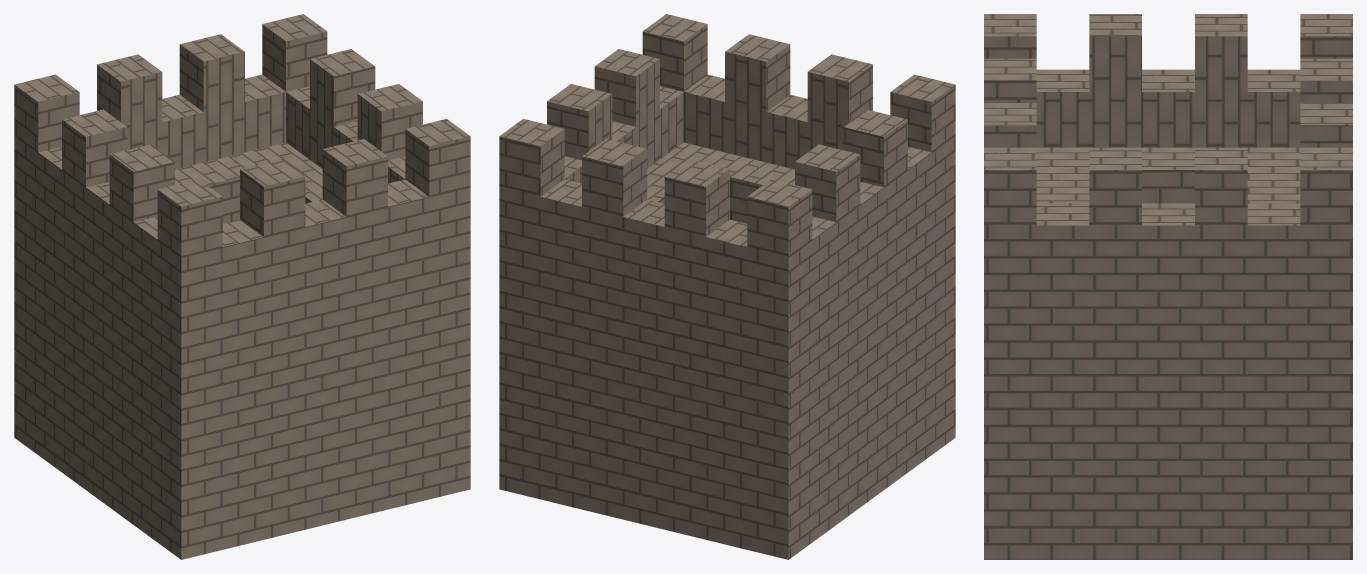
File: walltower.glb
3 views of the same model, side by side, from view 1: azimuth 30°, elevation 25°; view 2: azimuth 150°, elevation 25°; view 3: azimuth 270°, elevation 25° (orthographic). The views are drawn at different scales.
Visible parts, largest first — view 1: Cube; view 2: Cube; view 3: Cube.
Boxes of the visible parts, x1=… form: Cube: x1=14, y1=14, x2=470, y2=559; Cube: x1=499, y1=14, x2=955, y2=559; Cube: x1=984, y1=14, x2=1352, y2=559.
Bounding box in the file's own units: 12 × 14 × 12.
1 material, 1 textured.
